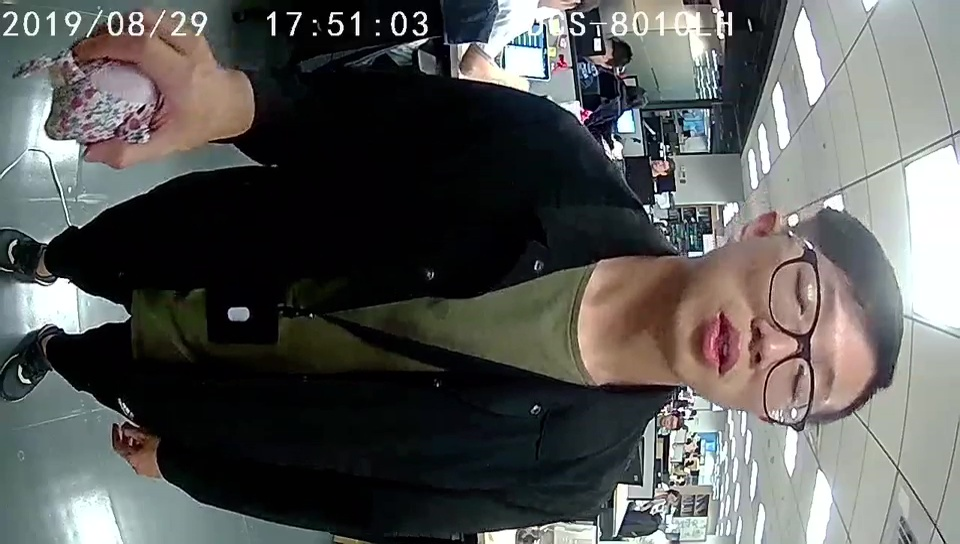pig: (43, 52, 163, 148)
